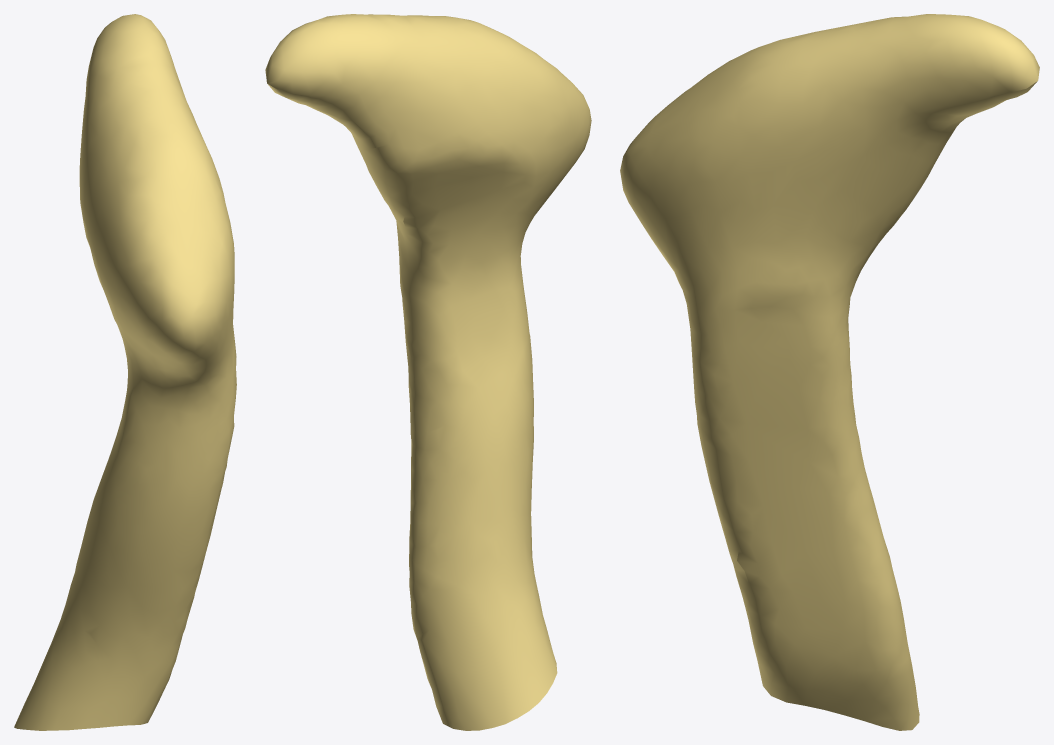
The model's file is fma73392_mm2993.glb.
3 renders of one model, left to right at view 1: azimuth 30°, elevation 25°; view 2: azimuth 150°, elevation 25°; view 3: azimuth 270°, elevation 25°, orthographic. The views are drawn at different scales.
Parts seen in each view (by area): view 1: FMA73392_MM2993; view 2: FMA73392_MM2993; view 3: FMA73392_MM2993.
Part boxes in pixels (x1,y1,x2,y2): FMA73392_MM2993: (14, 14, 236, 730); FMA73392_MM2993: (265, 14, 591, 730); FMA73392_MM2993: (620, 14, 1039, 730).
Size of the model in its own units: 0.005 by 0.0163 by 0.00816.
